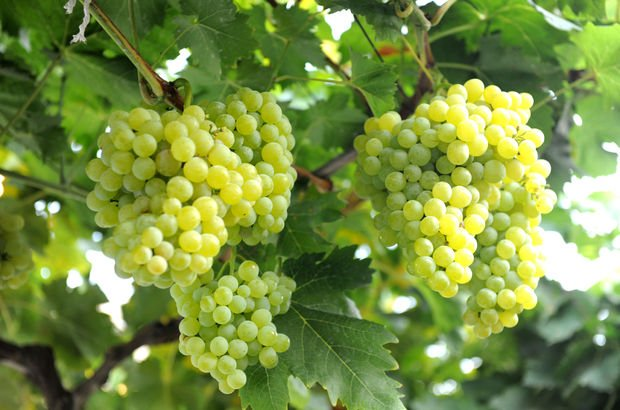Grape: (88, 99, 312, 392), (353, 83, 575, 338)
